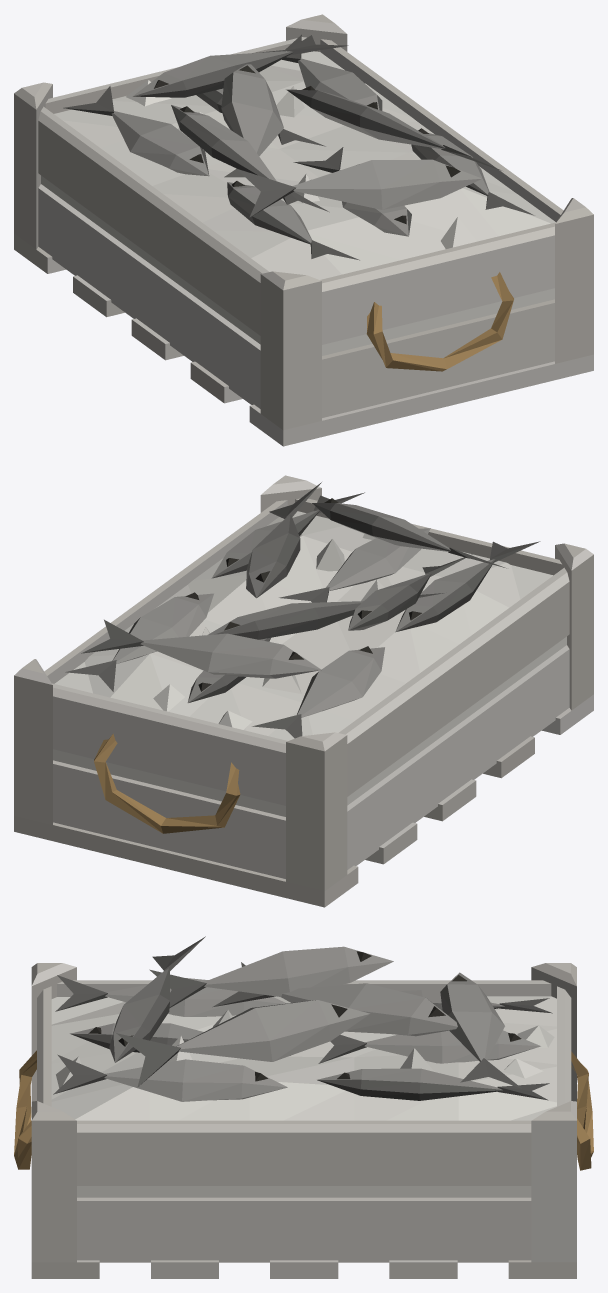
Rendered from fish-crate-3c3f7b.glb.
The picture shows the model from 3 angles, top to bottom: view 1: azimuth 30°, elevation 25°; view 2: azimuth 150°, elevation 25°; view 3: azimuth 270°, elevation 25°; orthographic projection.
Parts seen in each view (by area): view 1: crates, catch-mesh; view 2: crates, catch-mesh; view 3: crates, catch-mesh.
Part boxes in pixels (<box>): crates: <box>14,14,593,446</box>; catch-mesh: <box>41,34,555,355</box>; crates: <box>14,475,593,907</box>; catch-mesh: <box>53,482,566,816</box>; crates: <box>14,963,593,1278</box>; catch-mesh: <box>51,936,556,1197</box>.
Size of the model in its own units: 0.4 by 0.2593 by 0.6382.
